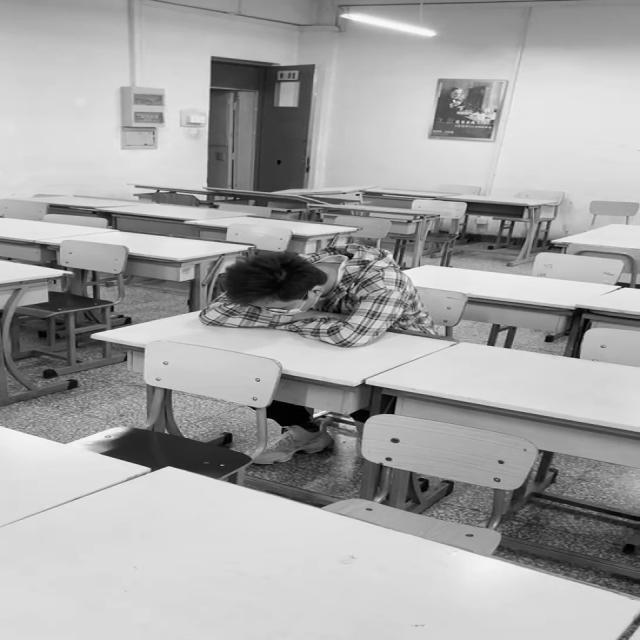sleep: (194, 250, 431, 347)
